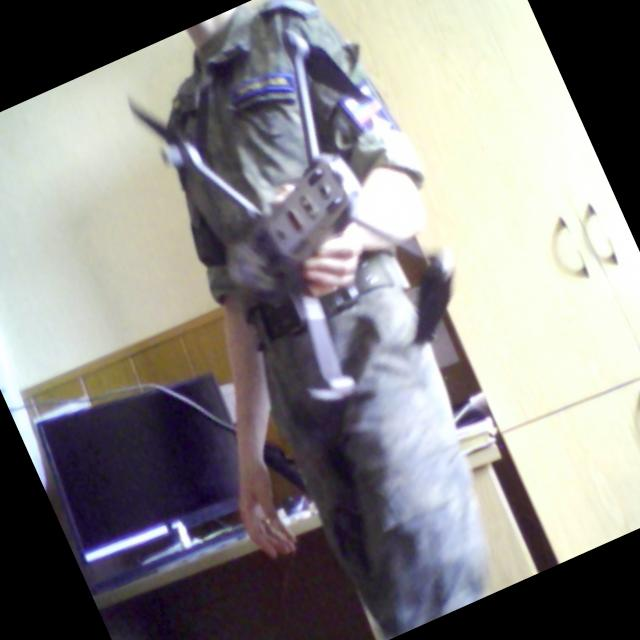drone: (122, 8, 504, 450)
